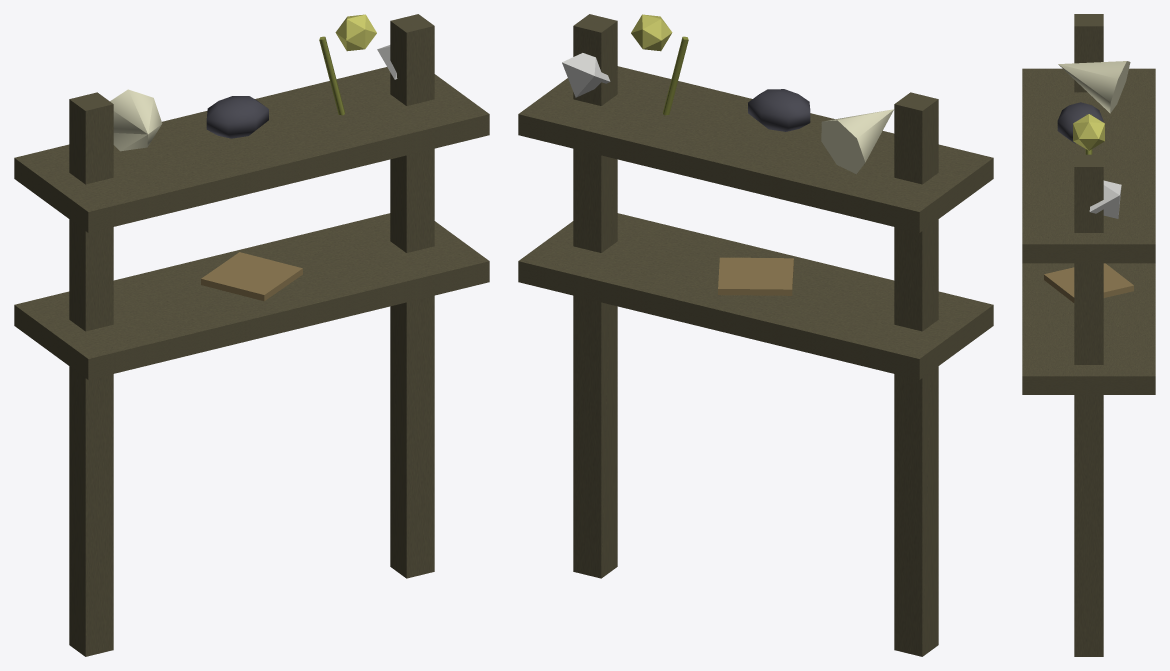
File: village_giftshelf3.glb
The picture shows the model from 3 angles, left to right: view 1: azimuth 30°, elevation 25°; view 2: azimuth 150°, elevation 25°; view 3: azimuth 270°, elevation 25°; orthographic projection. The views are drawn at different scales.
Visible parts, largest first — view 1: gs3_0, gs3_6, gs3_1, gs3_2, gs3_4; view 2: gs3_0, gs3_6, gs3_1, gs3_2, gs3_5, gs3_4; view 3: gs3_0, gs3_1, gs3_6, gs3_4, gs3_2, gs3_5.
Boxes of the visible parts, <box> form: gs3_0: <box>14,14,489,656</box>; gs3_6: <box>201,252,302,301</box>; gs3_1: <box>110,89,162,151</box>; gs3_2: <box>206,96,268,138</box>; gs3_4: <box>335,14,376,51</box>; gs3_0: <box>518,14,993,656</box>; gs3_6: <box>718,257,793,295</box>; gs3_1: <box>821,109,893,174</box>; gs3_2: <box>748,89,810,131</box>; gs3_5: <box>562,53,610,97</box>; gs3_4: <box>631,14,672,51</box>; gs3_0: <box>1022,14,1155,656</box>; gs3_1: <box>1058,61,1130,113</box>; gs3_6: <box>1044,263,1133,302</box>; gs3_4: <box>1073,114,1104,150</box>; gs3_2: <box>1057,102,1103,143</box>; gs3_5: <box>1089,180,1121,218</box>.
Bounding box in the file's own units: 1 × 1.35 × 0.32.
Materials: 1 (1 with a texture image).
